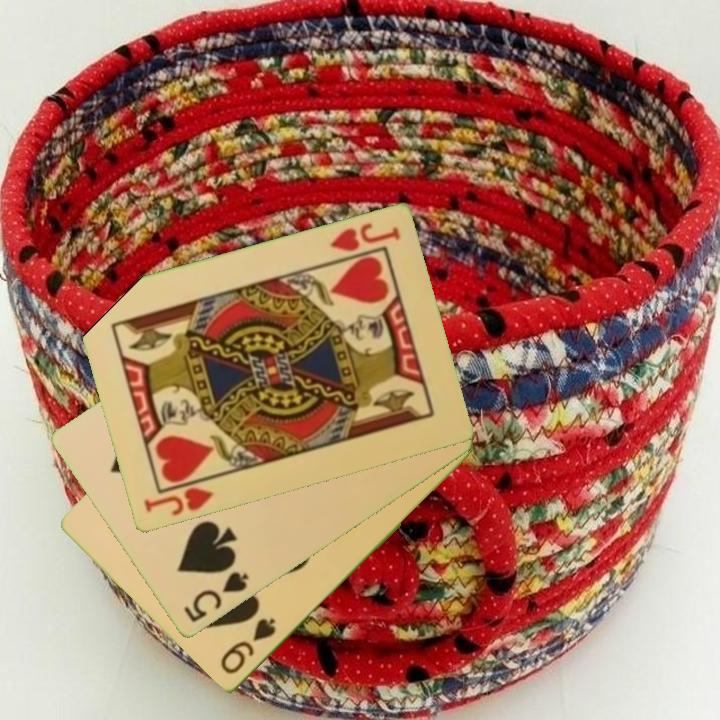5s: (179, 568, 252, 626)
9s: (216, 615, 279, 678)
Jh: (140, 473, 219, 520), (326, 220, 403, 255)
